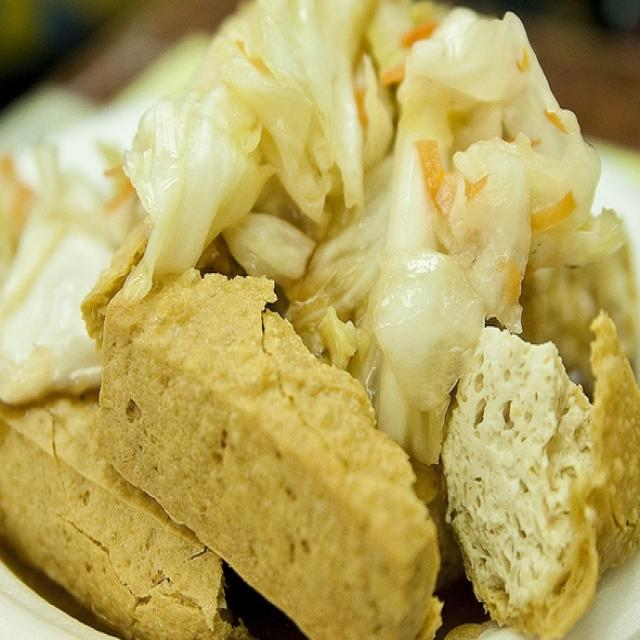豆腐料理: (1, 10, 631, 628)
